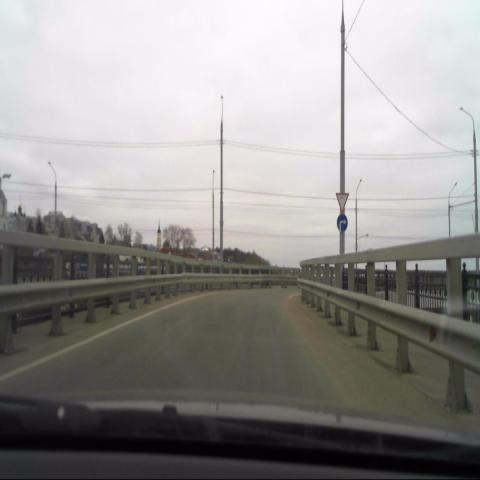4_1_2: (336, 214, 349, 234)
